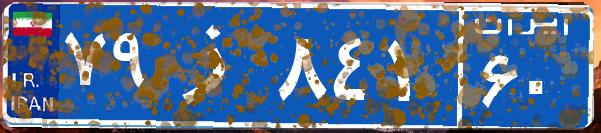0: (525, 38, 570, 115)
1: (385, 28, 445, 110)
4: (330, 28, 385, 110)
6: (475, 38, 525, 113)
7: (57, 26, 110, 107)
8: (273, 28, 330, 110)
9: (110, 28, 158, 105)
ز: (158, 15, 273, 115)
